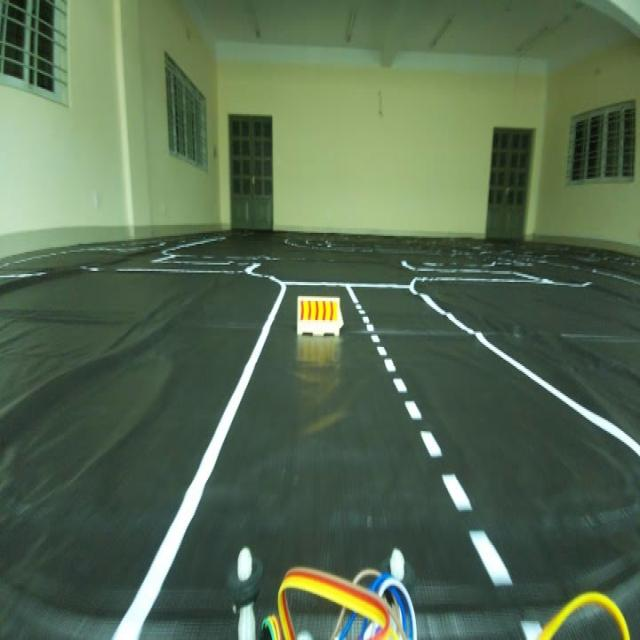roadblock: (290, 286, 349, 352)
